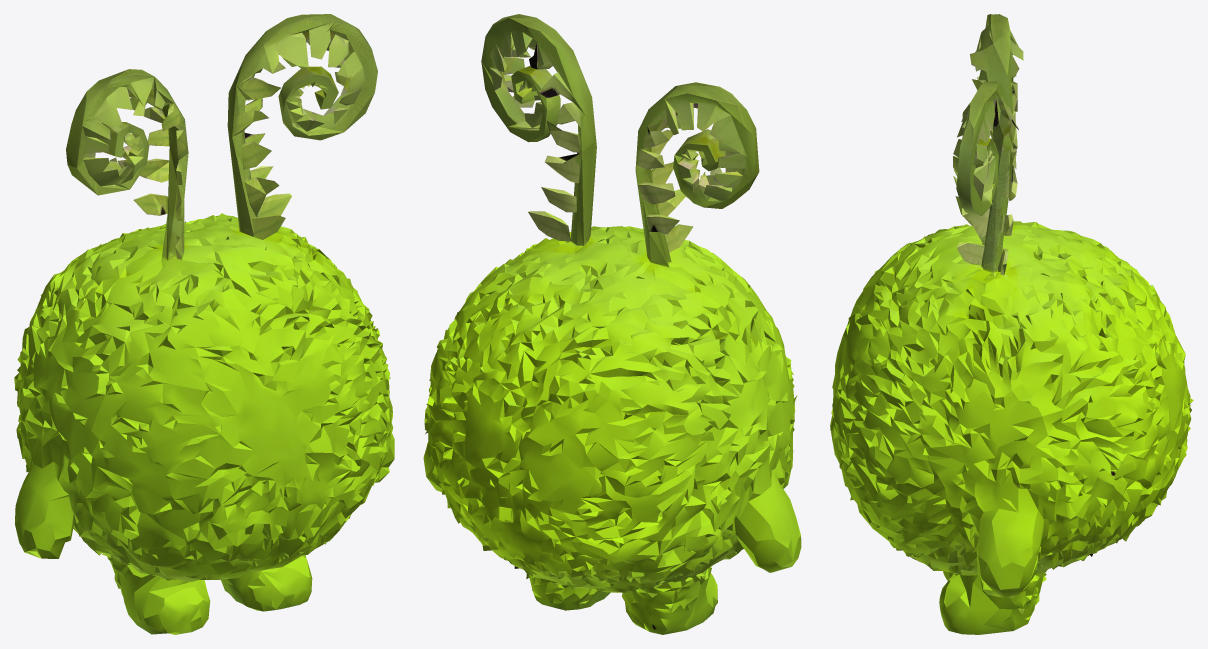
Rendered from moss-body-raw.glb.
The picture shows the model from 3 angles, left to right: view 1: azimuth 30°, elevation 25°; view 2: azimuth 150°, elevation 25°; view 3: azimuth 270°, elevation 25°; orthographic projection. The views are drawn at different scales.
Size of the model in its own units: 1.29 by 1.9 by 1.13.
Materials: 1 (1 with a texture image).
